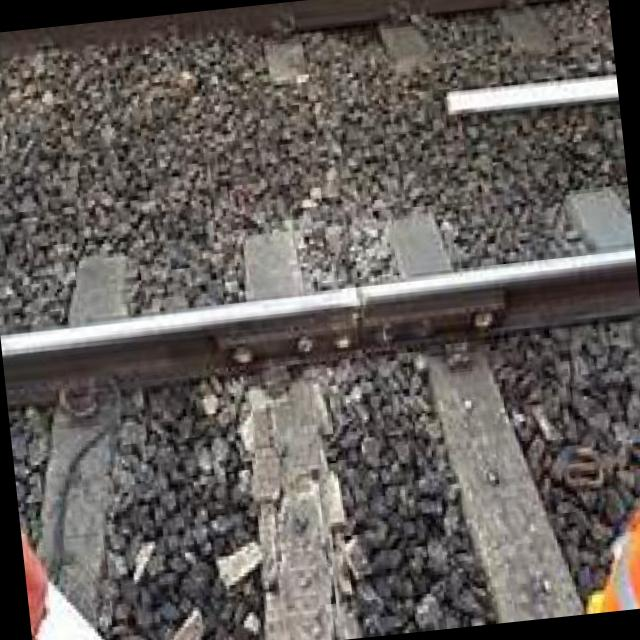defective: (224, 135, 639, 482)
